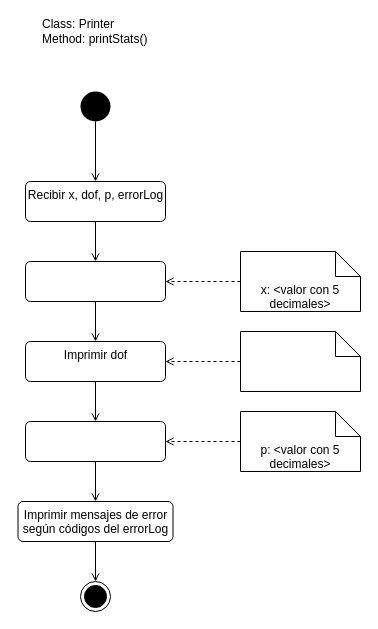
Some shapes in this 378 by 629 pixel diagram are drawn without their labels. The shapes that lost their labels are listed below. From the top down, each one's centre as x and y in pixels, then its label:
At [95,281]: "Imprimir x".
At [300,361]: "dof: <valor entero>".
At [95,441]: "Imprimir p".
